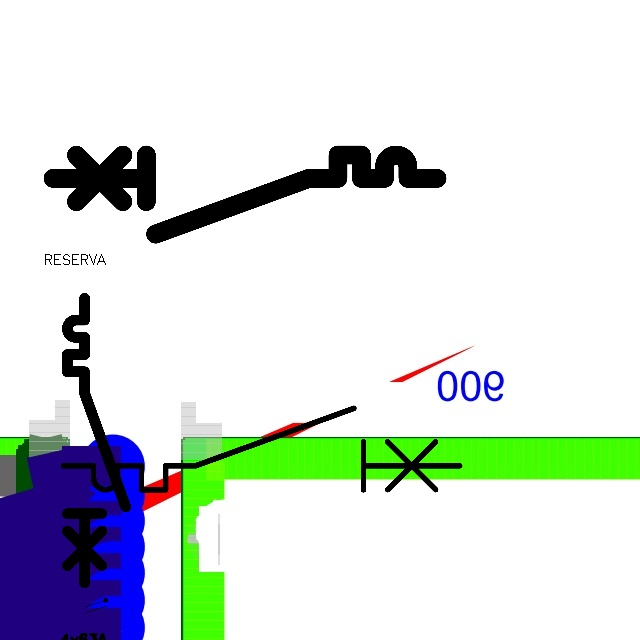interruptor_termomagnetico: (53, 398, 470, 500), (43, 145, 447, 244), (60, 291, 133, 590)
